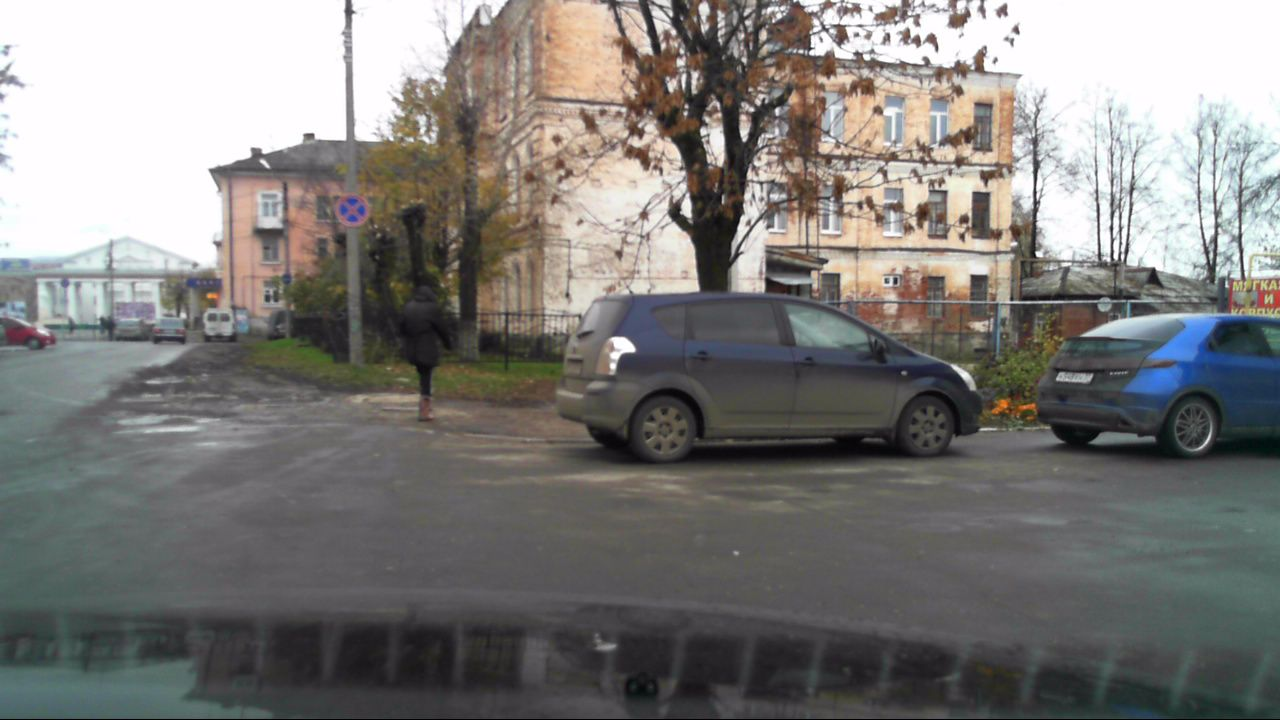No Parking: (334, 193, 370, 228)
